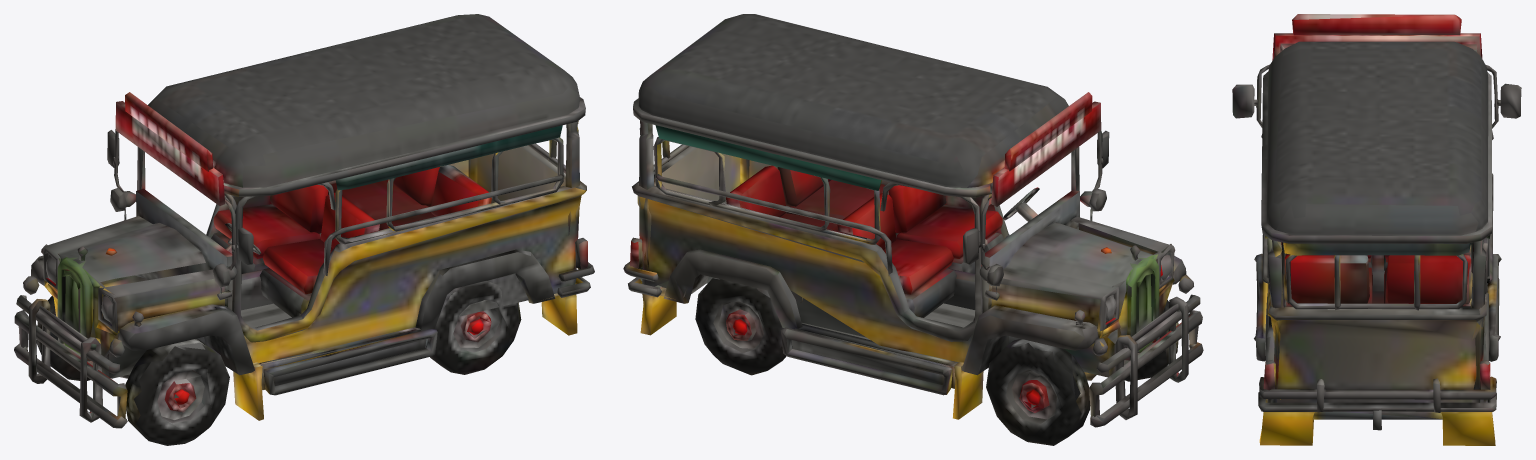
Rendered from jeep.glb.
3 renders of one model, left to right at view 1: azimuth 30°, elevation 25°; view 2: azimuth 150°, elevation 25°; view 3: azimuth 270°, elevation 25°, orthographic.
Visible parts, largest first — view 1: Mesh0; view 2: Mesh0; view 3: Mesh0.
Part boxes in pixels (left/top/right/bottom): Mesh0: left=14, top=14, right=594, bottom=445; Mesh0: left=623, top=14, right=1203, bottom=445; Mesh0: left=1232, top=14, right=1521, bottom=445.
Size of the model in its own units: 1 by 0.5552 by 0.5128.
1 material, 1 textured.
